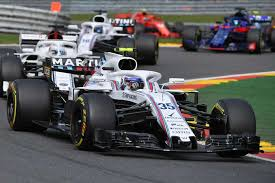f1_car: (4, 47, 268, 166), (178, 5, 275, 56)
